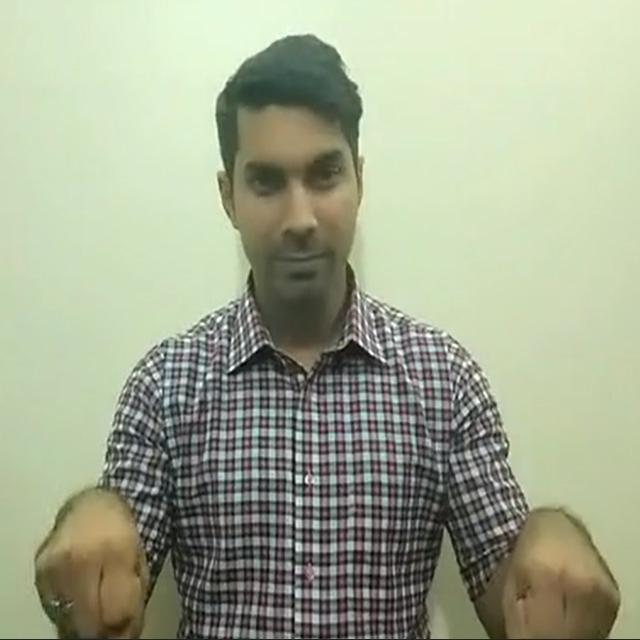can: (34, 488, 621, 638)
